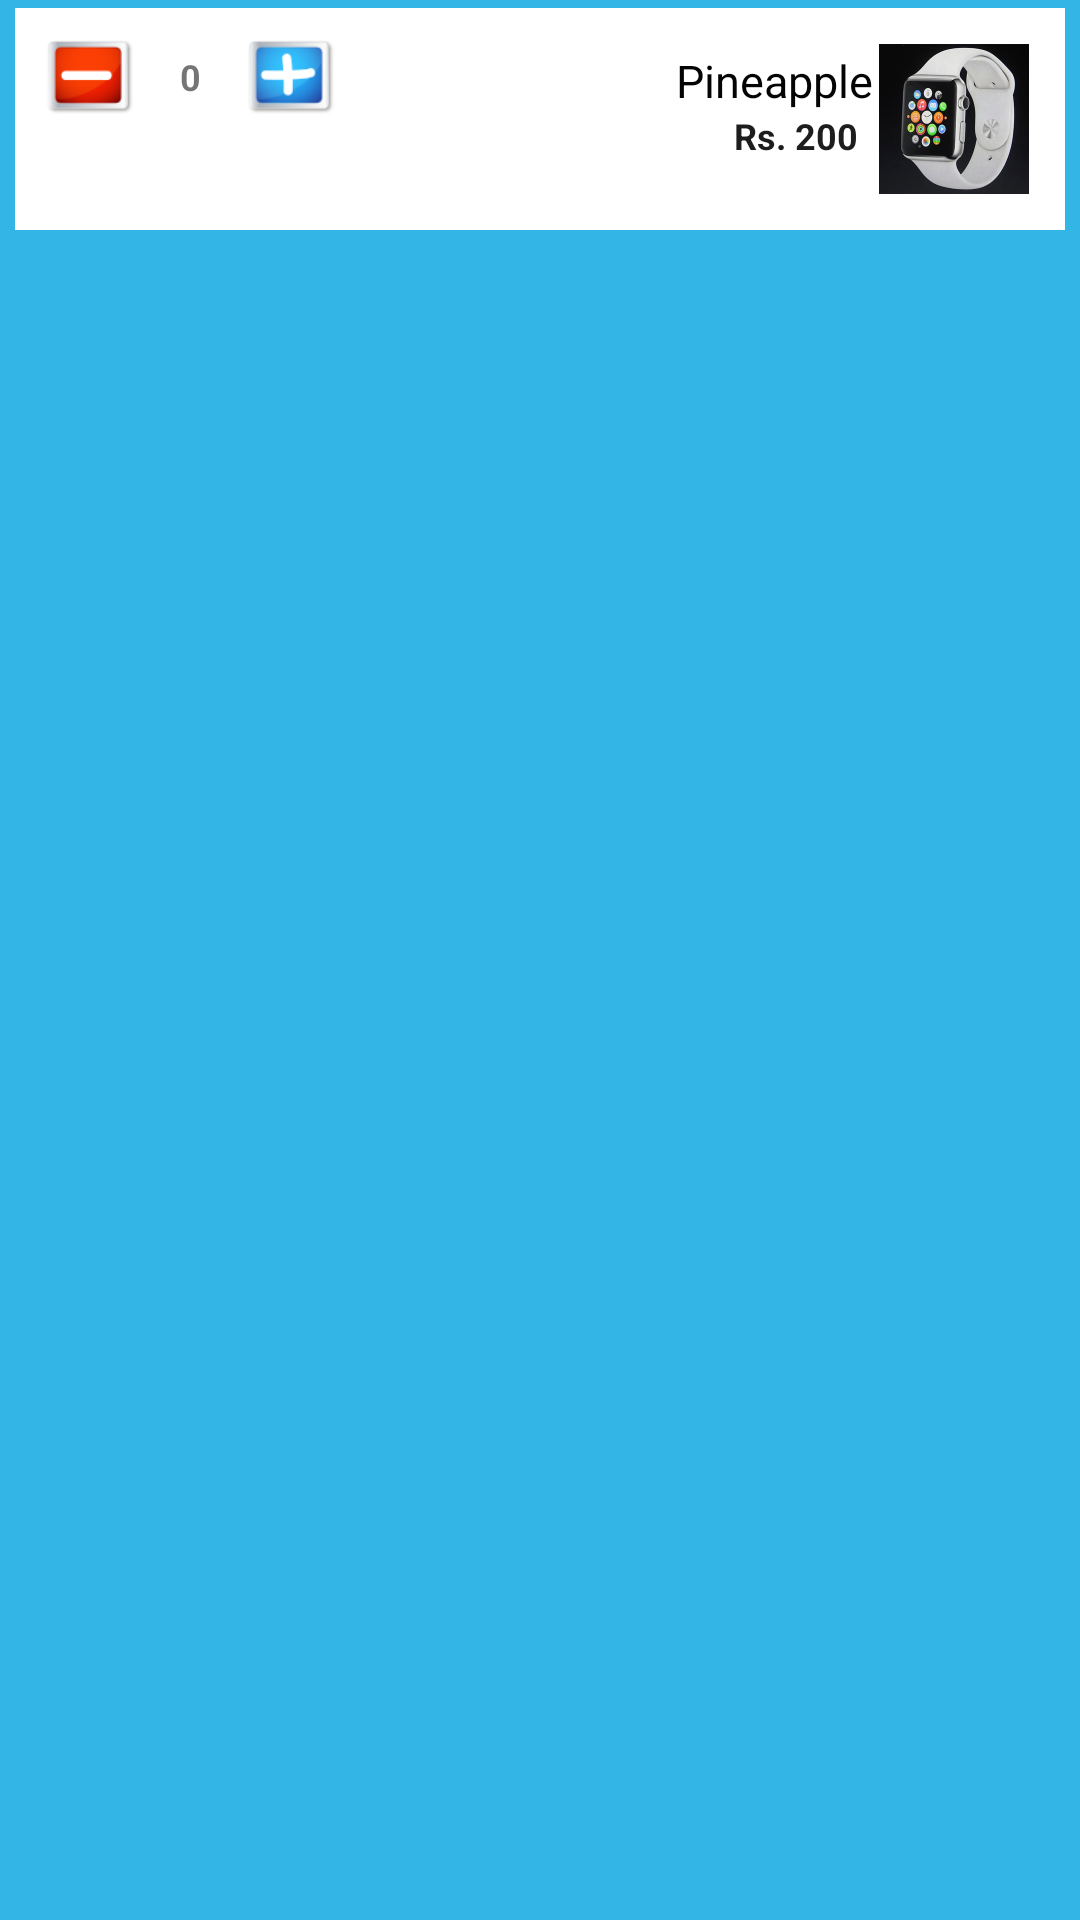

Named icons in this screenshot (1080px×1920px) and their centers, [x,y]:
minus: [90,76]
plus: [291,76]
